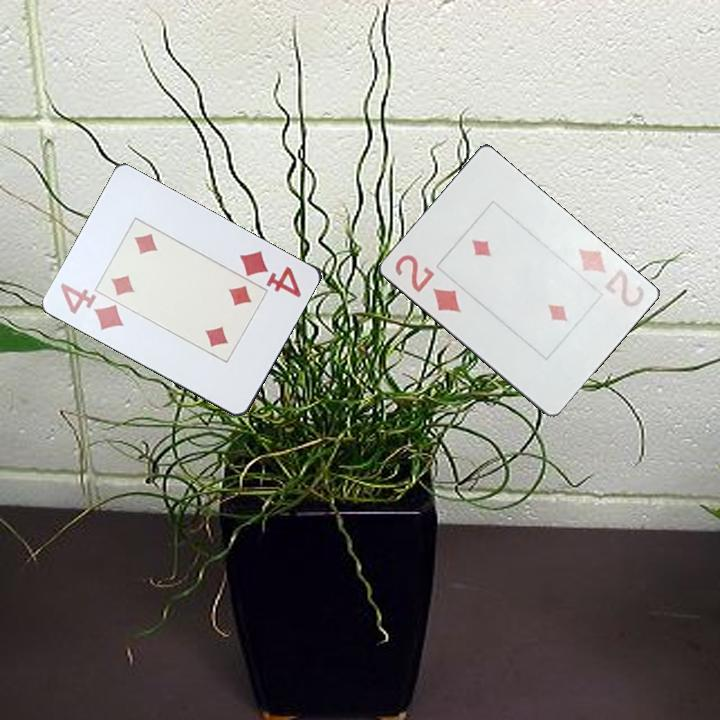2d: (570, 244, 649, 310), (389, 251, 464, 316)
4d: (57, 279, 128, 334), (236, 247, 305, 300)
